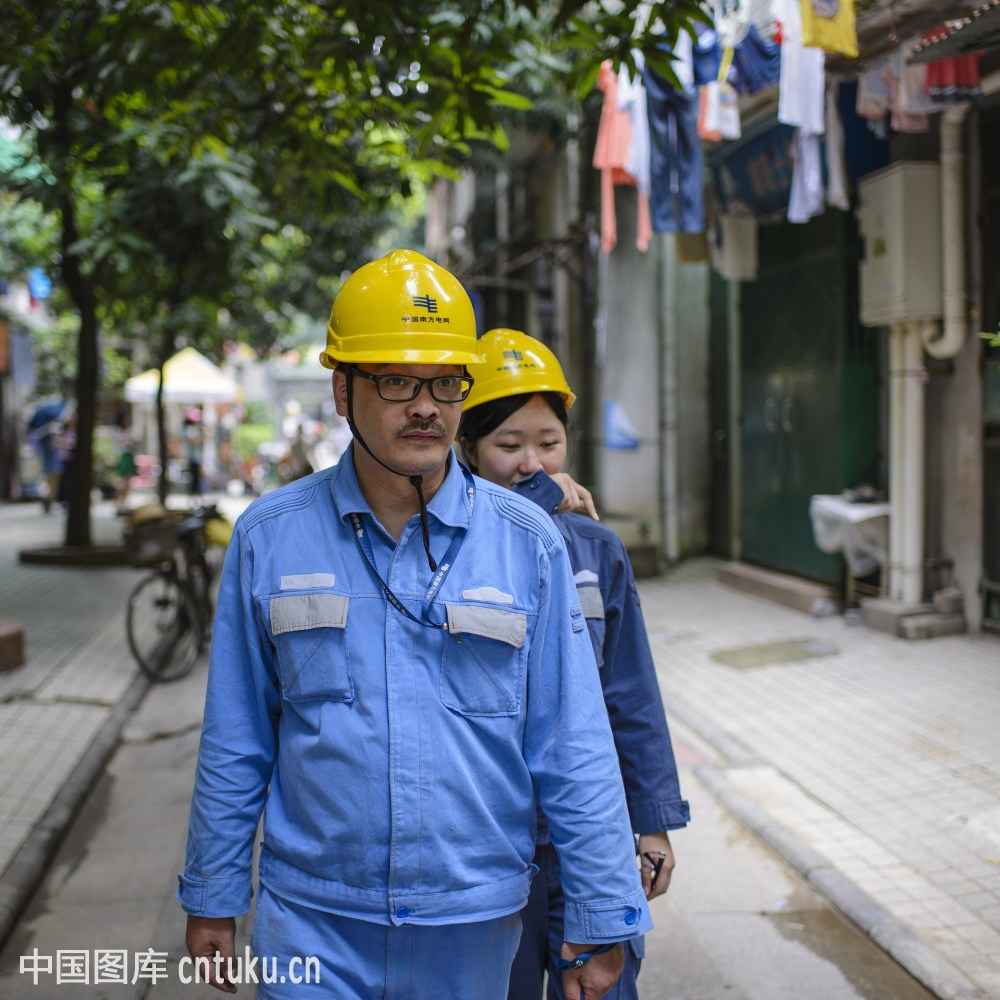yellow: (323, 242, 484, 478), (452, 321, 571, 498)
